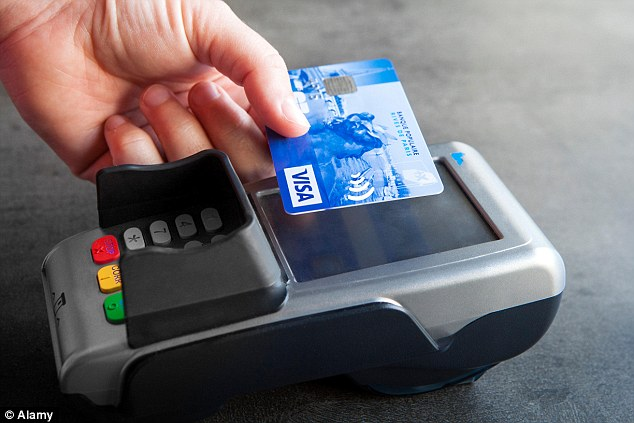tarjeta: (264, 56, 446, 216)
